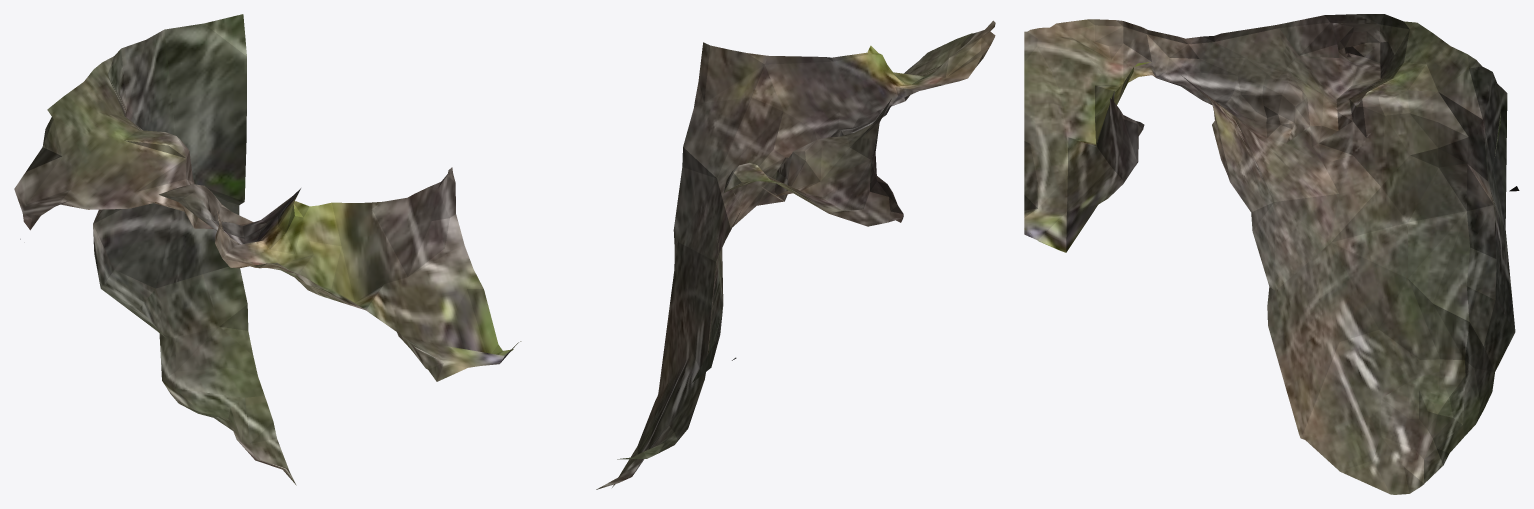
3 renders of one model, left to right at view 1: azimuth 30°, elevation 25°; view 2: azimuth 150°, elevation 25°; view 3: azimuth 270°, elevation 25°, orthographic. The views are drawn at different scales.
Bounding box in the file's own units: 1.65 × 2.21 × 2.68.
Materials: 2 (2 with a texture image).
